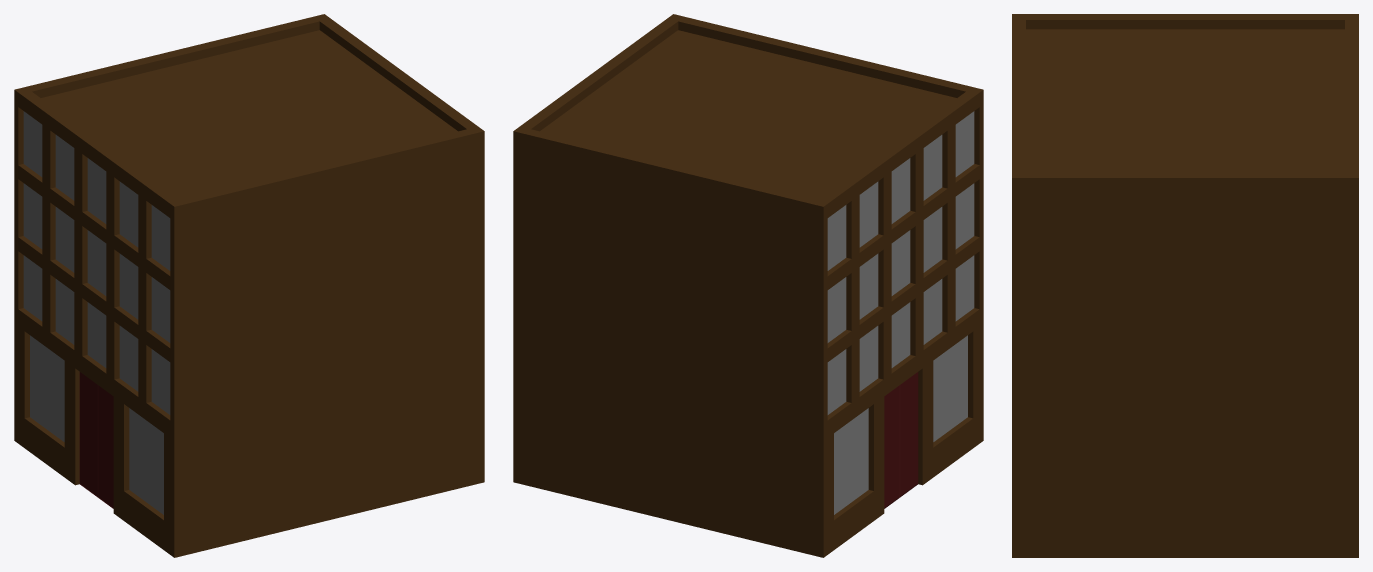
File: Building_Small_Apartments_V1.fbx
The picture shows the model from 3 angles, left to right: view 1: azimuth 30°, elevation 25°; view 2: azimuth 150°, elevation 25°; view 3: azimuth 270°, elevation 25°; orthographic projection. The views are drawn at different scales.
Parts seen in each view (by area): view 1: Mesh_building3, Glass_; view 2: Mesh_building3, Glass_; view 3: Mesh_building3.
Boxes of the visible parts, box(x1,y1,x2,y2) form: Mesh_building3: box(14, 14, 484, 557); Glass_: box(23, 111, 170, 514); Mesh_building3: box(513, 14, 983, 557); Glass_: box(827, 111, 974, 514); Mesh_building3: box(1012, 14, 1358, 557).
Bounding box in the file's own units: 220 × 238 × 197.
